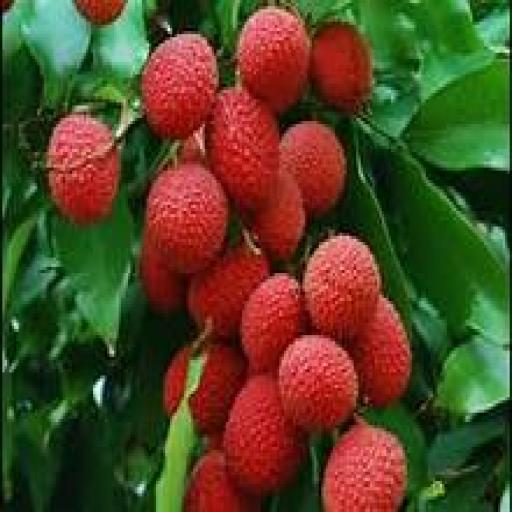lychee: (224, 376, 304, 496), (205, 87, 279, 211), (147, 162, 228, 273), (303, 236, 381, 341), (47, 115, 121, 223), (142, 35, 218, 139), (189, 246, 269, 341), (280, 336, 358, 431), (238, 7, 309, 111), (322, 426, 407, 511), (350, 295, 411, 406), (240, 274, 307, 372), (280, 122, 346, 217), (310, 22, 372, 114), (189, 345, 246, 434), (252, 171, 304, 260), (184, 450, 258, 511), (140, 233, 186, 313), (75, 0, 125, 24), (177, 131, 207, 164), (0, 0, 13, 12)
